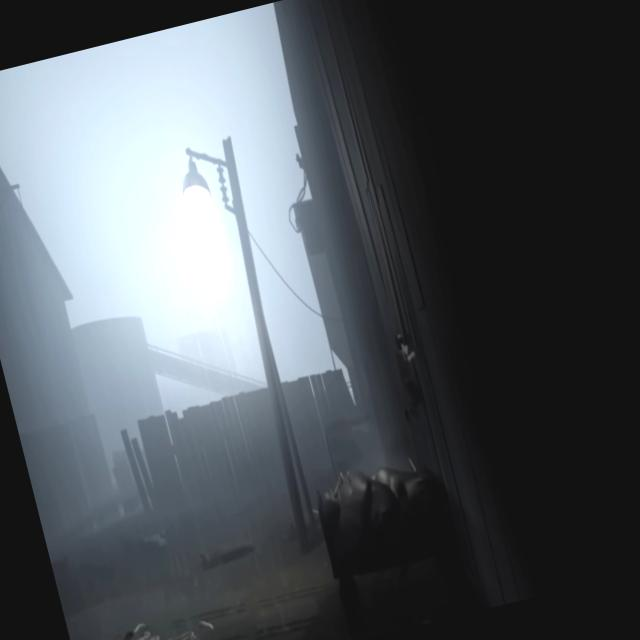boy: (392, 330, 431, 422)
